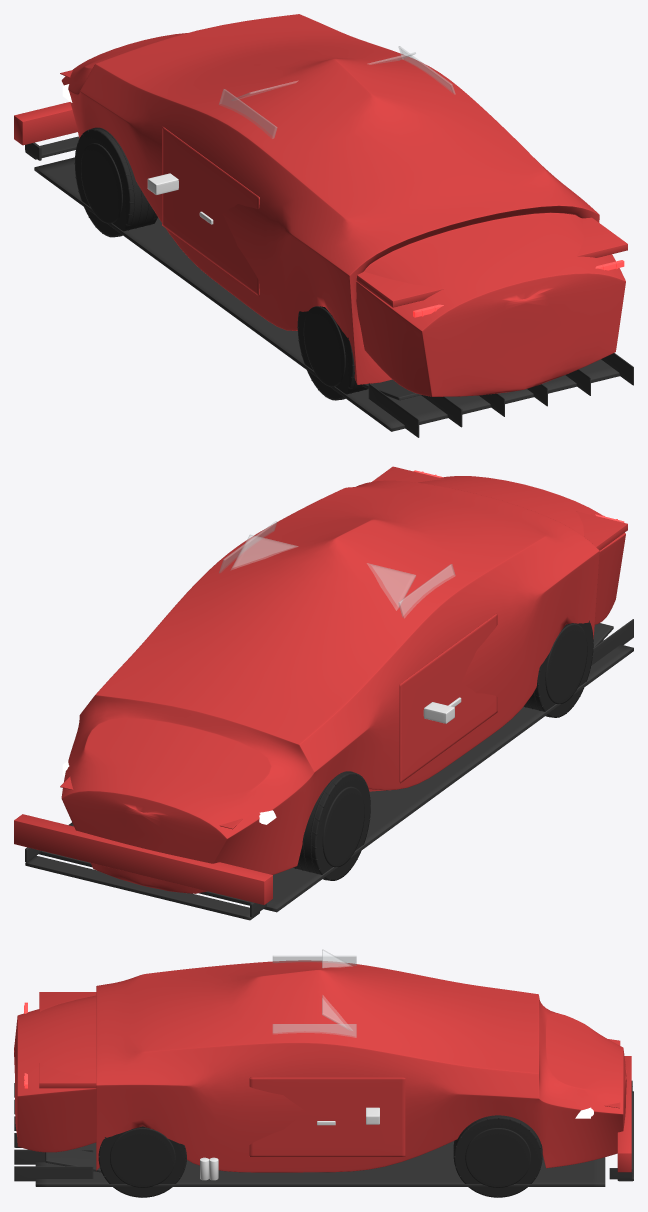
File: Car_Ford_F150_SVT_Lightning_1990s_Complete.glb
3 renders of one model, top to bottom at view 1: azimuth 30°, elevation 25°; view 2: azimuth 150°, elevation 25°; view 3: azimuth 270°, elevation 25°, orthographic. The views are drawn at different scales.
Parts seen in each view (by area): view 1: BODY_MainShell, UNDERBODY_FlatFloor, BODY_Door_FL, WHEEL_FL_Tire, WHEEL_RL_Tire, BODY_Lightning_TonneauCover, AERO_Lightning_FrontAirDam, GLASS_Greenhouse, AERO_FrontSplitter, JEWELRY_Hardware; view 2: BODY_MainShell, UNDERBODY_FlatFloor, BODY_Door_FL, AERO_Lightning_FrontAirDam, WHEEL_FL_Tire, WHEEL_RL_Tire, GLASS_Greenhouse, AERO_FrontSplitter, BODY_Lightning_TonneauCover; view 3: BODY_MainShell, UNDERBODY_FlatFloor, BODY_Door_FR, WHEEL_FR_Tire, WHEEL_RR_Tire, GLASS_Greenhouse, BODY_Lightning_TonneauCover, AERO_Lightning_FrontAirDam, AERO_FrontSplitter, JEWELRY_Lightning_SideExhaust.
Part boxes in pixels (x1,y1,x2,y2): BODY_MainShell: (61,14,625,396); UNDERBODY_FlatFloor: (34,157,633,437); BODY_Door_FL: (162,126,259,296); WHEEL_FL_Tire: (74,127,157,237); WHEEL_RL_Tire: (297,306,367,400); BODY_Lightning_TonneauCover: (356,217,627,307); AERO_Lightning_FrontAirDam: (14,102,77,145); GLASS_Greenhouse: (219,46,455,138); AERO_FrontSplitter: (25,136,79,160); JEWELRY_Hardware: (147,173,213,224); BODY_MainShell: (61,476,625,893); UNDERBODY_FlatFloor: (39,619,633,912); BODY_Door_FL: (399,613,497,783); AERO_Lightning_FrontAirDam: (14,814,272,904); WHEEL_FL_Tire: (293,771,370,880); WHEEL_RL_Tire: (524,620,593,717); GLASS_Greenhouse: (219,521,455,618); AERO_FrontSplitter: (25,847,266,920); BODY_Lightning_TonneauCover: (372,466,627,550); BODY_MainShell: (14,960,626,1172); UNDERBODY_FlatFloor: (14,1083,605,1186); BODY_Door_FR: (249,1077,405,1156); WHEEL_FR_Tire: (453,1115,542,1197); WHEEL_RR_Tire: (98,1126,186,1197); GLASS_Greenhouse: (272,949,356,1037); BODY_Lightning_TonneauCover: (39,992,96,1088); AERO_Lightning_FrontAirDam: (617,1056,631,1172); AERO_FrontSplitter: (609,1080,633,1181); JEWELRY_Lightning_SideExhaust: (200,1157,218,1180).
Size of what is drawn, in the model's own units: 2.36 by 1.72 by 5.32.
